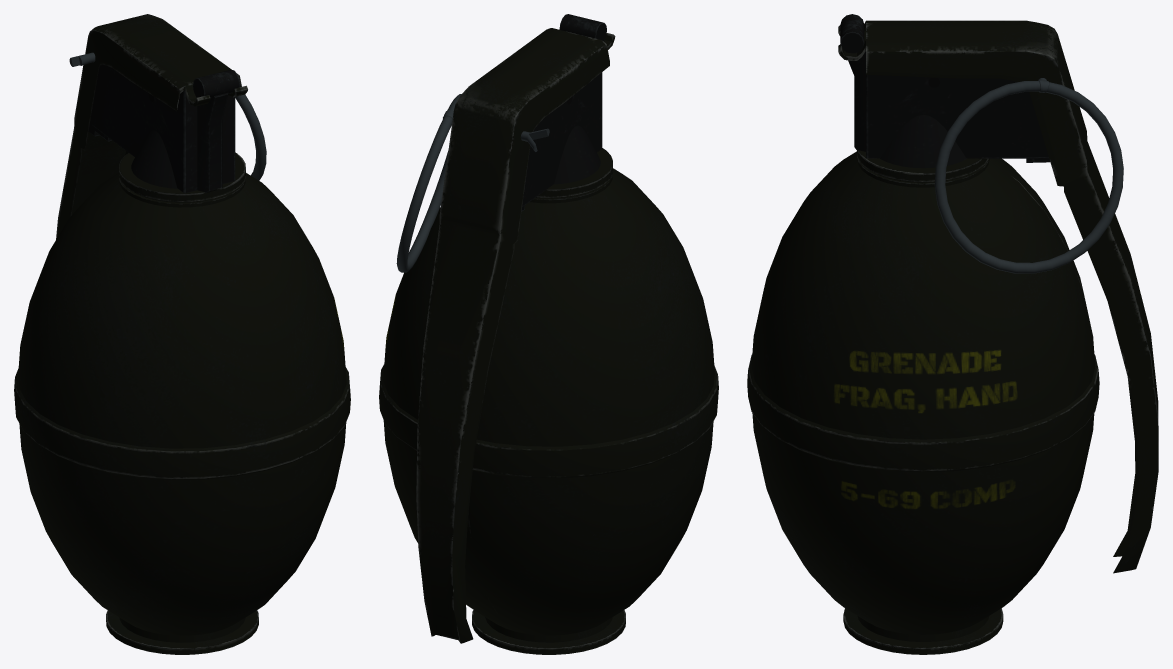
File: grenade.glb
3 renders of one model, left to right at view 1: azimuth 30°, elevation 25°; view 2: azimuth 150°, elevation 25°; view 3: azimuth 270°, elevation 25°, orthographic. The views are drawn at different scales.
Parts seen in each view (by area): view 1: Grenade, Pin; view 2: Grenade, Pin; view 3: Grenade, Pin.
Boxes of the visible parts, left/top/right/bottom form: Grenade: left=14, top=14, right=350, bottom=654; Pin: left=69, top=52, right=266, bottom=180; Grenade: left=379, top=14, right=718, bottom=654; Pin: left=396, top=94, right=549, bottom=272; Grenade: left=747, top=14, right=1158, bottom=654; Pin: left=934, top=78, right=1123, bottom=273.
Size of the model in its own units: 1.42 by 2.65 by 1.65.
Materials: 2 (2 with a texture image).
